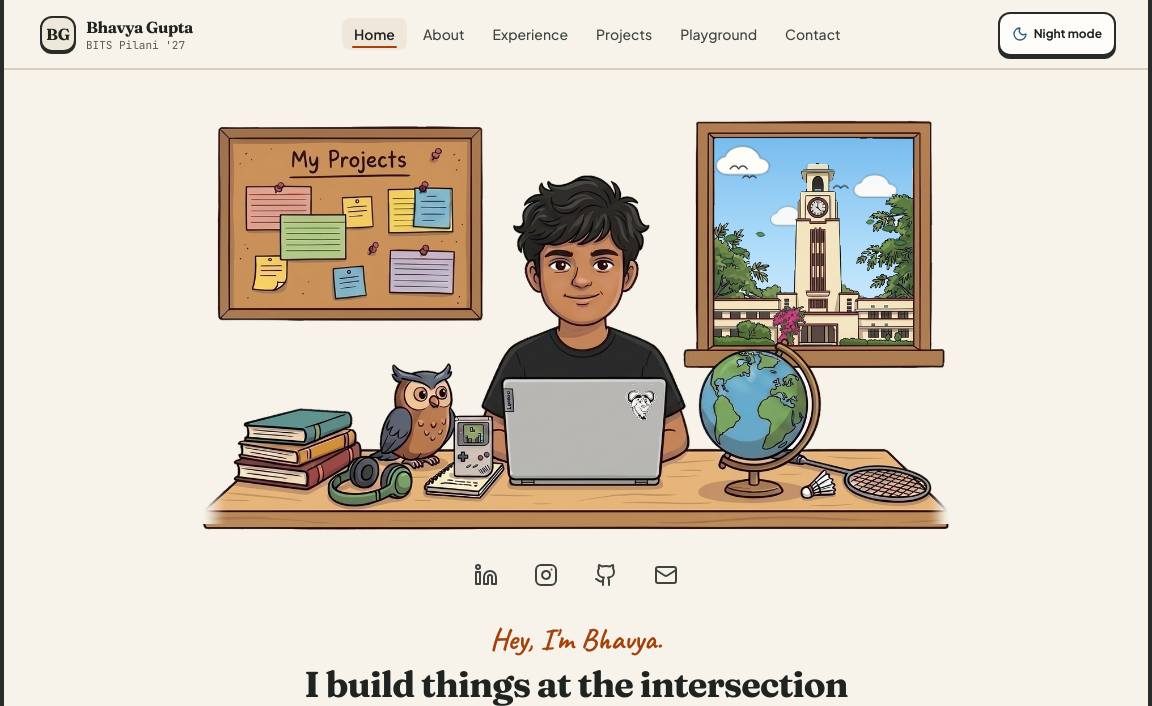
Test: Bhavya Gupta Portfolio › toggles Day and Night desk lamp theme
This screenshot has width=1152, height=706.
Click the button with aria-label "switch to late-night study lamp": coordinates (1057, 34) [998, 12, 1116, 56]
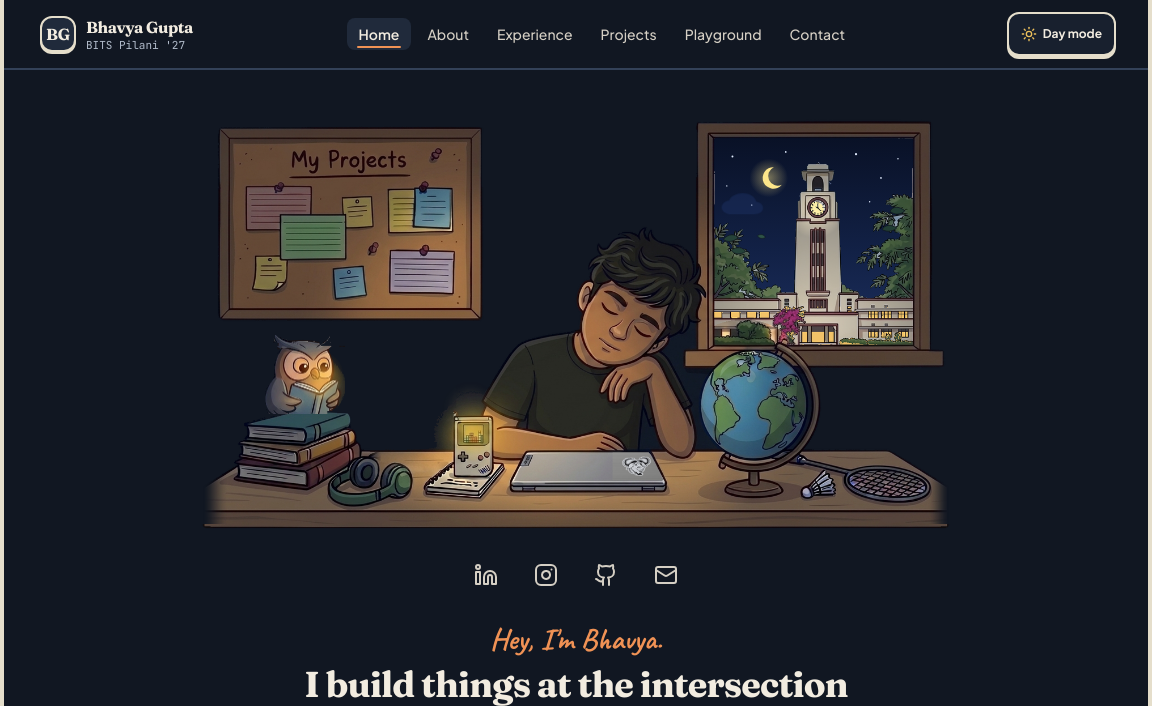
Expected: the button with aria-label "switch to warm daylight paper" is pressed, [1007, 12, 1116, 56]
